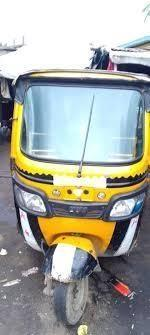keke: (9, 66, 150, 326)
